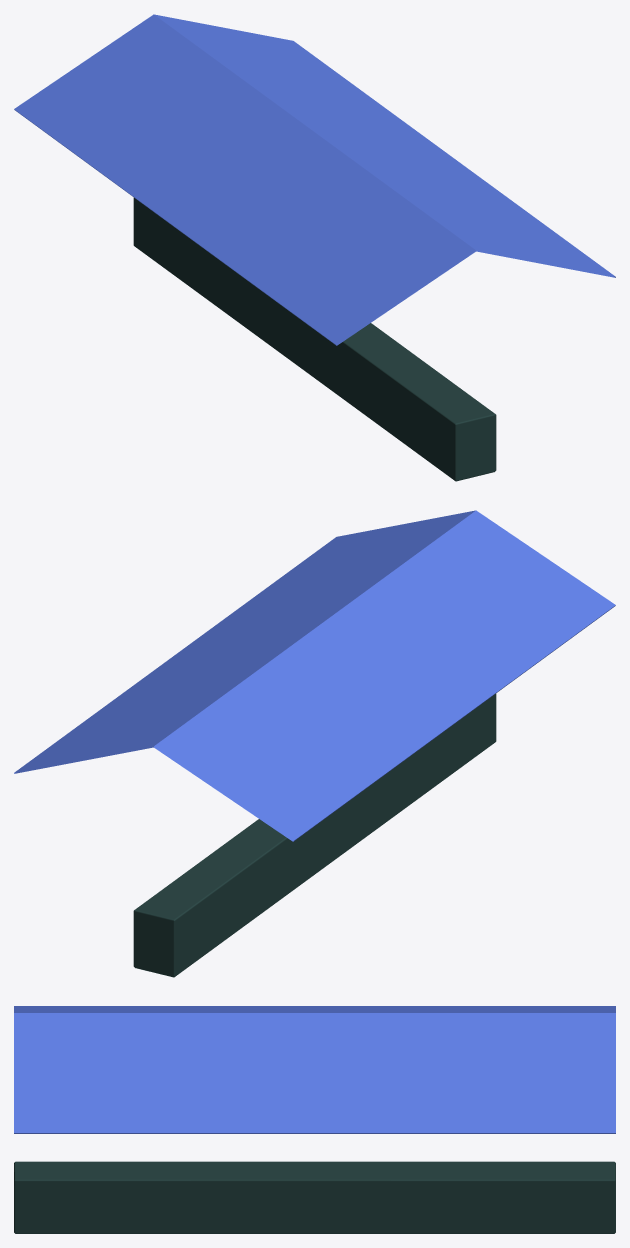
Rendered from SM_Straight_2m.fbx.
The picture shows the model from 3 angles, top to bottom: view 1: azimuth 30°, elevation 25°; view 2: azimuth 150°, elevation 25°; view 3: azimuth 270°, elevation 25°; orthographic projection. The views are drawn at different scales.
Visible parts, largest first — view 1: SM_Straight_2m_LOD0; view 2: SM_Straight_2m_LOD0; view 3: SM_Straight_2m_LOD0.
Boxes of the visible parts, <box> form: SM_Straight_2m_LOD0: <box>14,14,615,481</box>; SM_Straight_2m_LOD0: <box>14,510,615,977</box>; SM_Straight_2m_LOD0: <box>14,1006,615,1233</box>.
Bounding box in the file's own units: 100 × 77.69 × 200.
